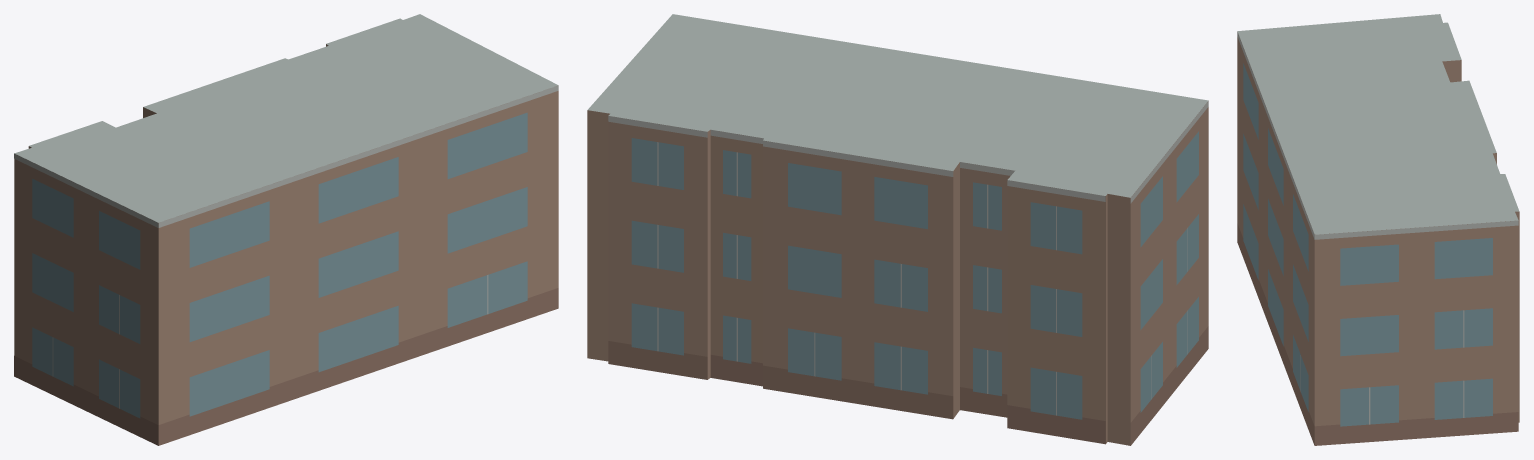
The model's file is survey-upis-32744290.glb.
The picture shows the model from 3 angles, left to right: view 1: azimuth 30°, elevation 25°; view 2: azimuth 150°, elevation 25°; view 3: azimuth 270°, elevation 25°; orthographic projection. The views are drawn at different scales.
Parts seen in each view (by area): view 1: survey-upis-32744290.tmp; view 2: survey-upis-32744290.tmp; view 3: survey-upis-32744290.tmp.
Boxes of the visible parts, x1,y1,x2,y2 form: survey-upis-32744290.tmp: (14, 14, 558, 445); survey-upis-32744290.tmp: (587, 14, 1208, 445); survey-upis-32744290.tmp: (1237, 14, 1519, 445).
Size of the model in its own units: 22.96 by 10.23 by 12.4.
